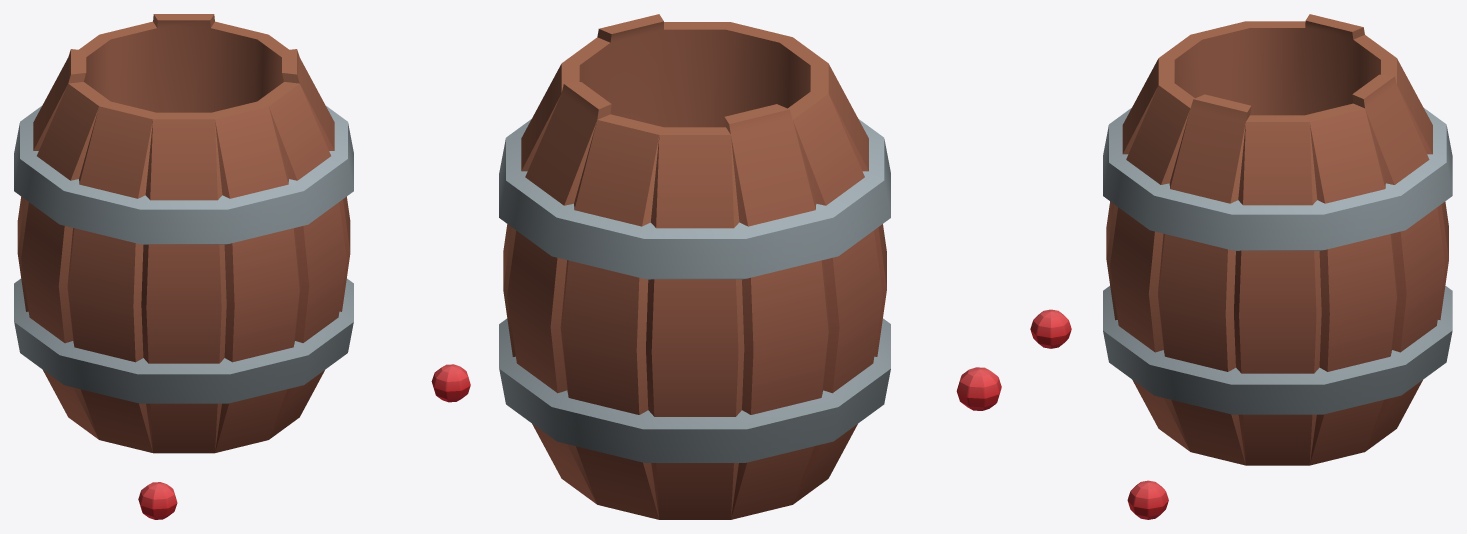
File: apple_barrel_7.glb
3 views of the same model, side by side, from view 1: azimuth 30°, elevation 25°; view 2: azimuth 150°, elevation 25°; view 3: azimuth 270°, elevation 25° (orthographic). The views are drawn at different scales.
Visible parts, largest first — view 1: apple_barrel_7; view 2: apple_barrel_7; view 3: apple_barrel_7.
Boxes of the visible parts, x1,y1,x2,y2 form: apple_barrel_7: (14, 14, 470, 519); apple_barrel_7: (499, 14, 1001, 519); apple_barrel_7: (1030, 14, 1452, 519).
Bounding box in the file's own units: 1.38 × 1.2 × 1.3.
2 materials, 2 textured.
